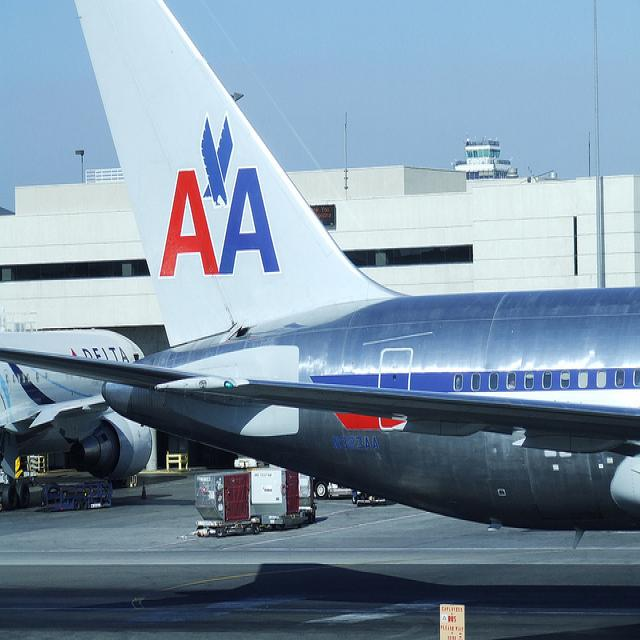airplane: (0, 0, 640, 552), (0, 311, 165, 513)
